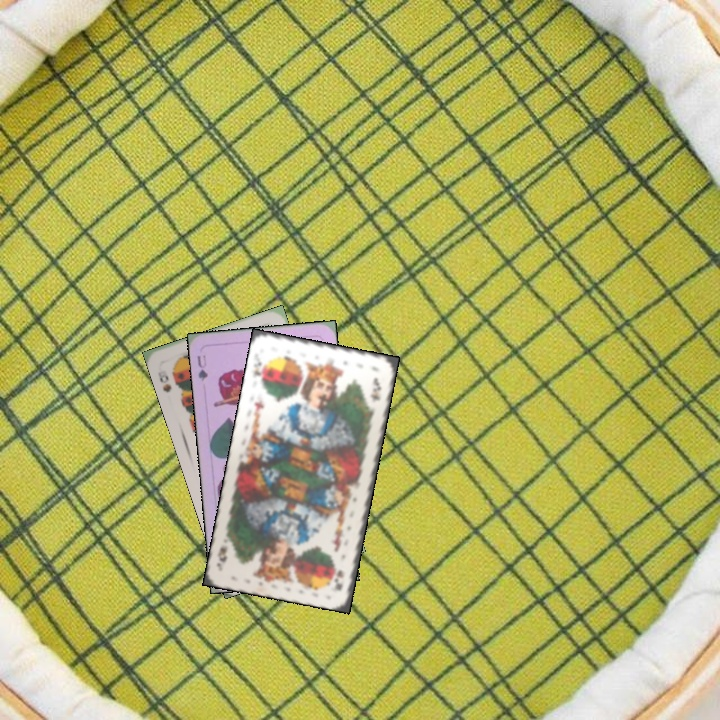GU: (193, 351, 210, 384)
S8: (155, 371, 174, 395)
SK: (329, 565, 346, 593), (249, 352, 264, 380)
